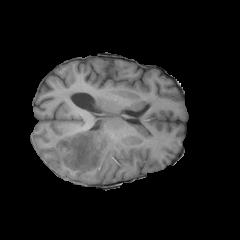glioma: (46, 127, 120, 179)
